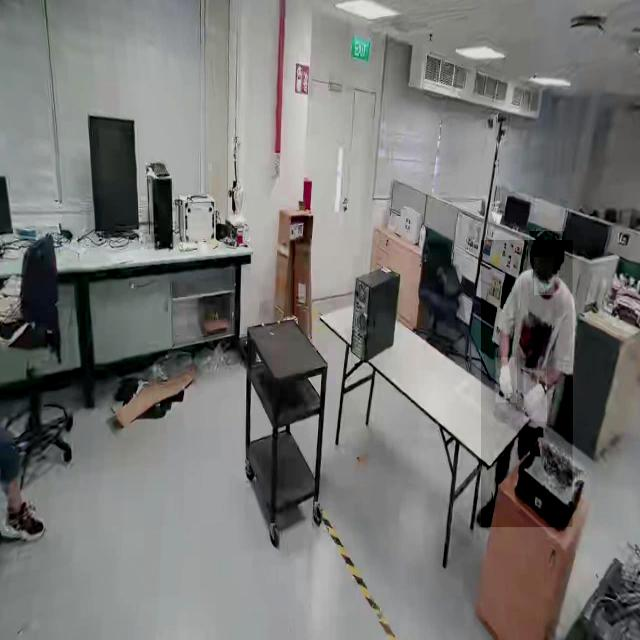face_mask: (534, 257, 554, 295)
hand_glove: (524, 371, 548, 422), (495, 357, 517, 403)
head_nohelmet: (530, 231, 564, 258)
person: (481, 240, 573, 528)
